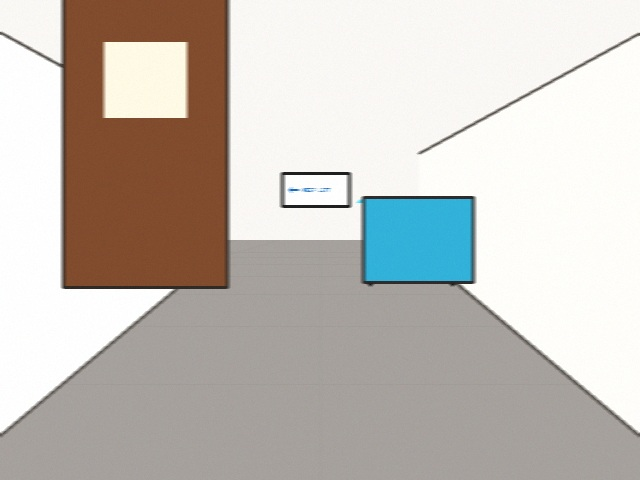cart: (357, 197, 473, 282)
directional_sign: (282, 173, 349, 206)
door: (63, 0, 227, 287)
